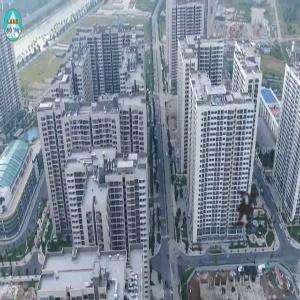drone: (197, 158, 298, 259)
